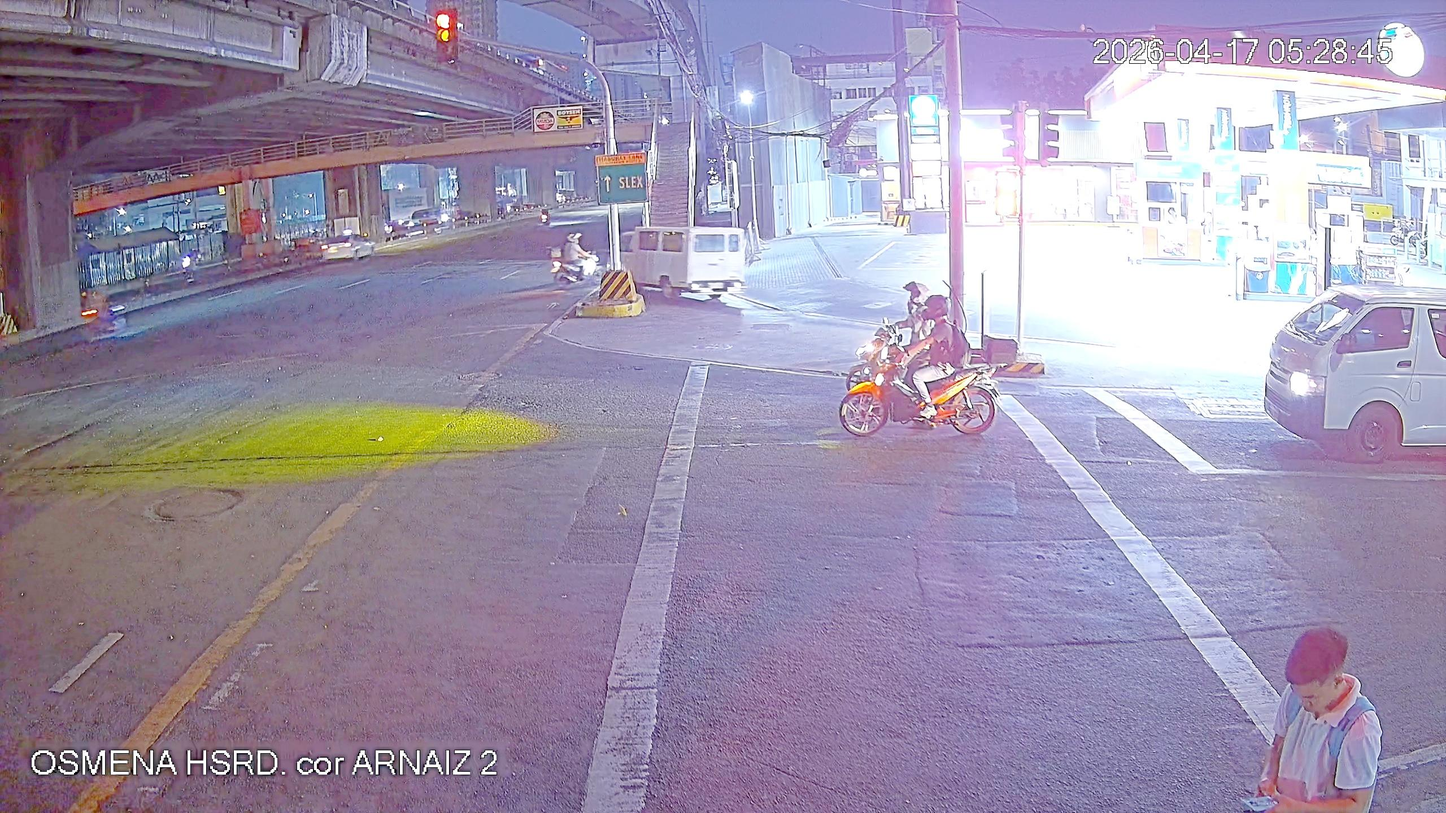Car: (1262, 284, 1446, 460), (617, 226, 741, 301), (323, 229, 375, 265)
Motor: (859, 351, 987, 454), (850, 316, 907, 377), (80, 289, 128, 342), (547, 244, 596, 286)
Not Accident: (540, 220, 750, 308)
